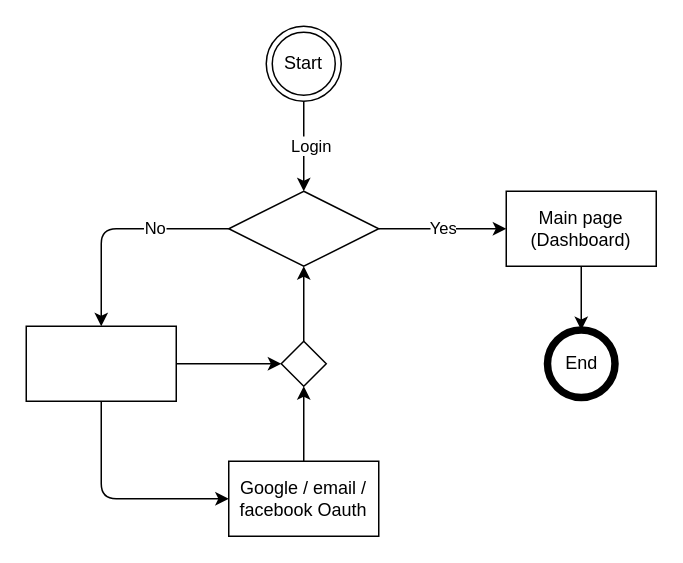
Some shapes in this 683 by 563 pixel diagram are drawn without their labels. Here are the shapes that lost their labels. From the top down, the centre of each, then its label:
At pixel 303 228: "isAuth?".
At pixel 100 363: "Login / register".
